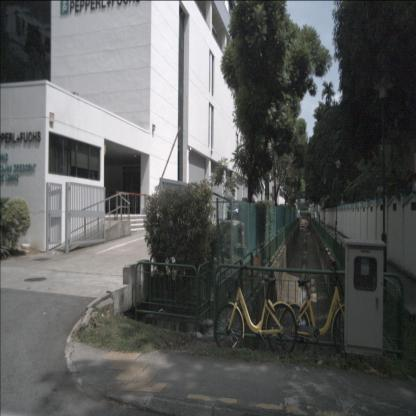vehicle-bicycle: (278, 260, 363, 358), (214, 260, 298, 358)
vehicle-car: (227, 200, 244, 219)
